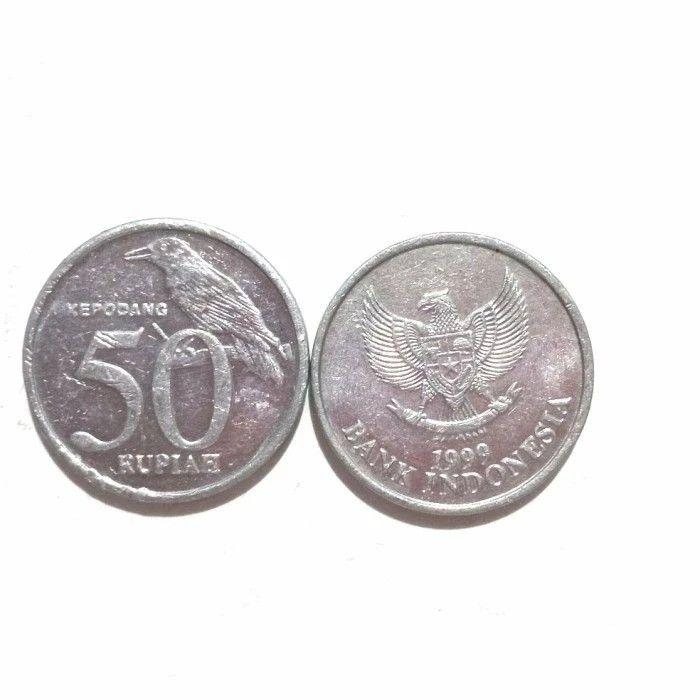coin_50_1999: (23, 216, 313, 514), (311, 230, 595, 522)
